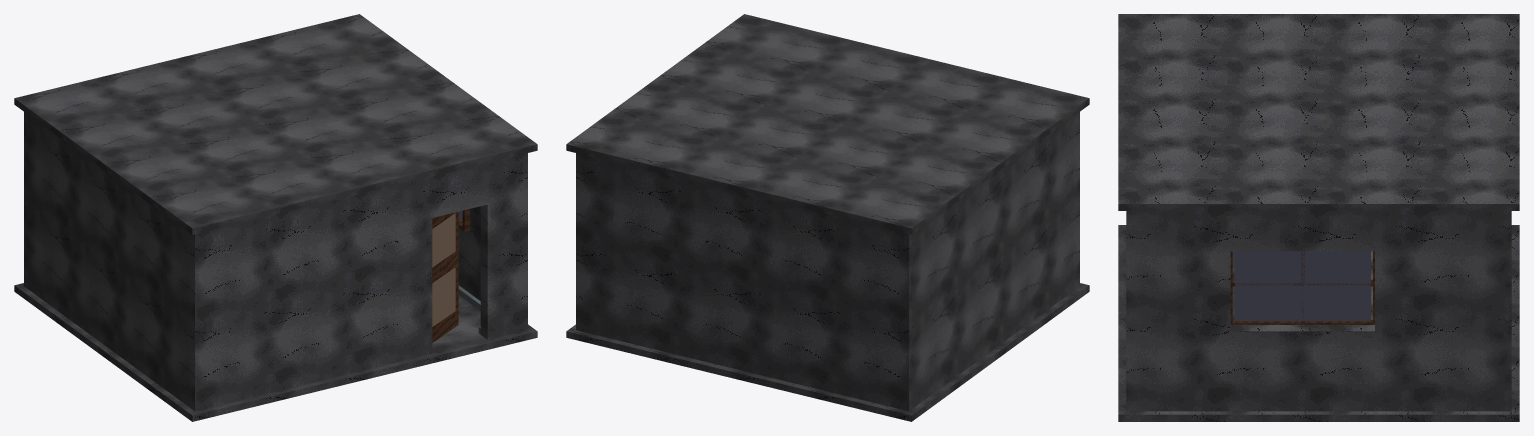
File: ep_interrogatorio.glb
3 renders of one model, left to right at view 1: azimuth 30°, elevation 25°; view 2: azimuth 150°, elevation 25°; view 3: azimuth 270°, elevation 25°, orthographic. The views are drawn at different scales.
Parts seen in each view (by area): view 1: concrete-col, flat, wood_dark; view 2: concrete-col; view 3: concrete-col, flat.002, wood_dark.
Boxes of the visible parts, bbox=[...] form: concrete-col: bbox=[14, 14, 537, 421]; flat: bbox=[432, 213, 455, 326]; wood_dark: bbox=[432, 209, 469, 342]; concrete-col: bbox=[566, 14, 1089, 421]; concrete-col: bbox=[1118, 14, 1519, 421]; flat.002: bbox=[1234, 251, 1370, 321]; wood_dark: bbox=[1230, 251, 1374, 324].
Size of the model in its own units: 5.6 by 3 by 5.
28 materials, 8 textured.
